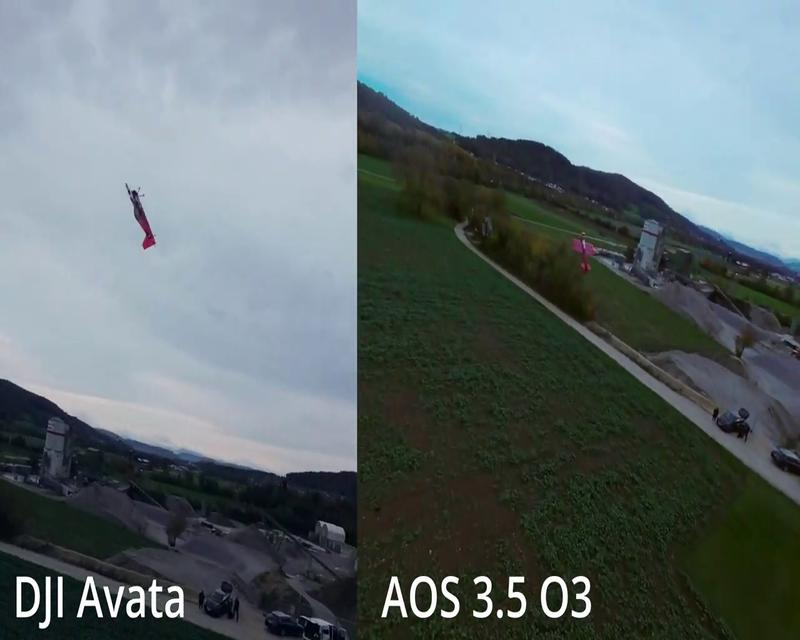UAV: (126, 183, 155, 250)
